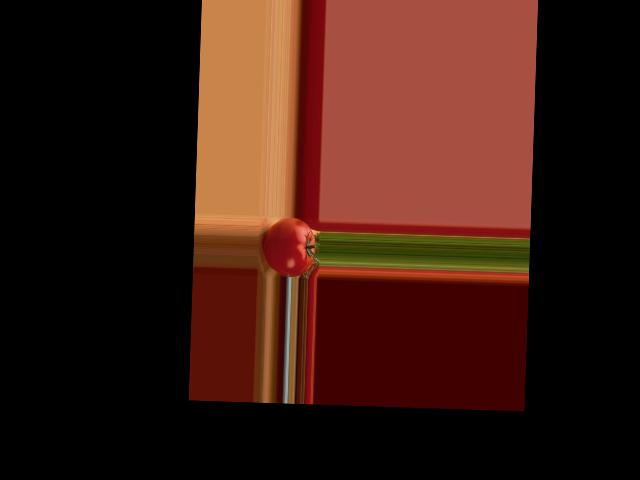tomato: (263, 216, 316, 277)
